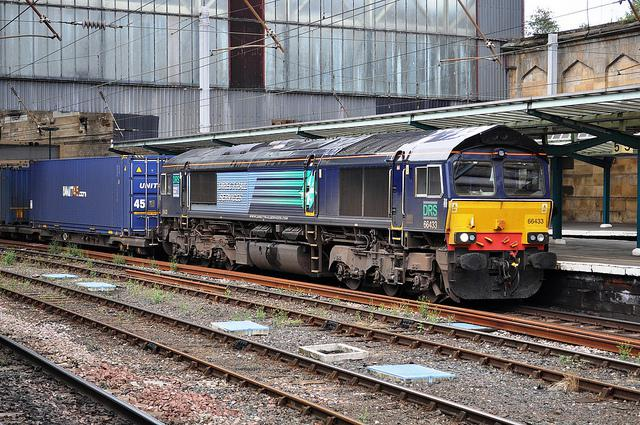Train: (1, 123, 559, 303)
